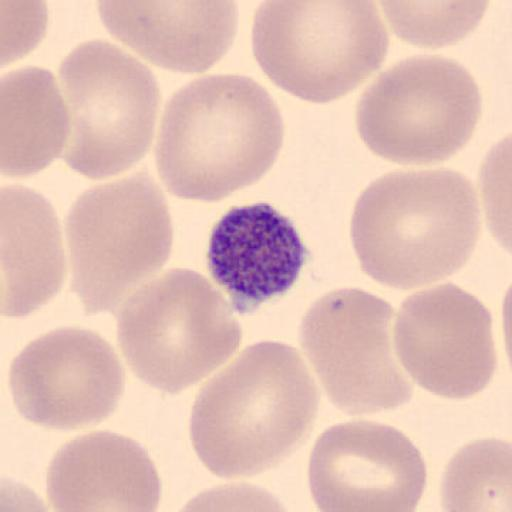Platelet: (204, 198, 314, 317)
RBC: (190, 338, 321, 480), (153, 72, 286, 204), (346, 166, 483, 290), (114, 266, 243, 397), (64, 172, 174, 316), (297, 285, 413, 420), (52, 38, 160, 181), (354, 52, 484, 167), (250, 0, 390, 106), (7, 323, 127, 433), (393, 282, 499, 402), (306, 417, 429, 512), (96, 0, 241, 76), (44, 429, 162, 512), (1, 182, 67, 320), (2, 65, 72, 179), (374, 0, 491, 49), (438, 436, 512, 512), (478, 132, 512, 256), (170, 481, 296, 512), (2, 1, 51, 70), (0, 474, 54, 512), (500, 269, 512, 382)
